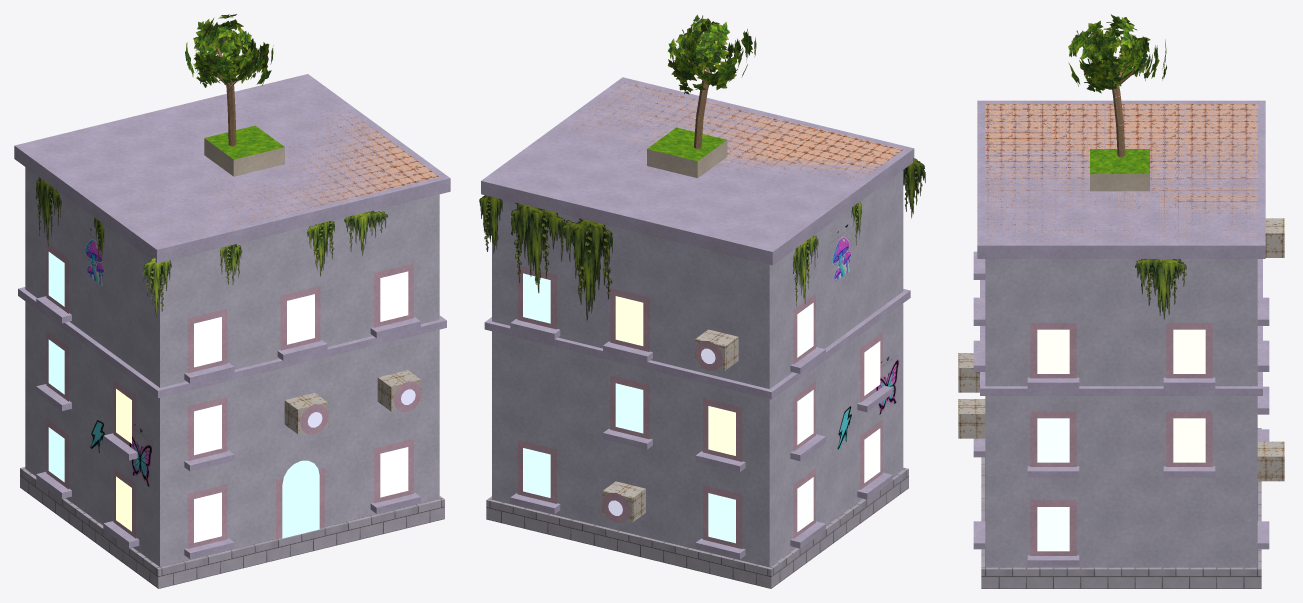
File: BUILDING_03.glb
3 renders of one model, left to right at view 1: azimuth 30°, elevation 25°; view 2: azimuth 150°, elevation 25°; view 3: azimuth 270°, elevation 25°, orthographic.
Visible parts, largest first — view 1: B_AS_03_Skin, BUILDING_03_Trees, B_AS_03_Moss; view 2: B_AS_03_Skin, B_AS_03_Moss, BUILDING_03_Trees; view 3: B_AS_03_Skin, BUILDING_03_Trees, B_AS_03_Moss.
Boxes of the visible parts, box(x1,y1,x2,y2) form: B_AS_03_Skin: box(14, 74, 450, 588); BUILDING_03_Trees: box(185, 14, 273, 146); B_AS_03_Moss: box(36, 177, 387, 317); B_AS_03_Skin: box(481, 77, 914, 588); B_AS_03_Moss: box(479, 158, 925, 320); BUILDING_03_Trees: box(667, 14, 756, 148); B_AS_03_Skin: box(958, 100, 1284, 588); BUILDING_03_Trees: box(1068, 14, 1166, 157); B_AS_03_Moss: box(1135, 259, 1186, 319).
Size of the model in its own units: 13.28 by 20.18 by 12.28.
13 materials, 9 textured.
